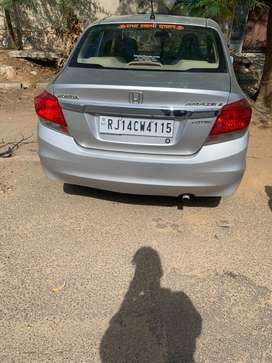RJ14CW4115: (99, 116, 174, 137)
